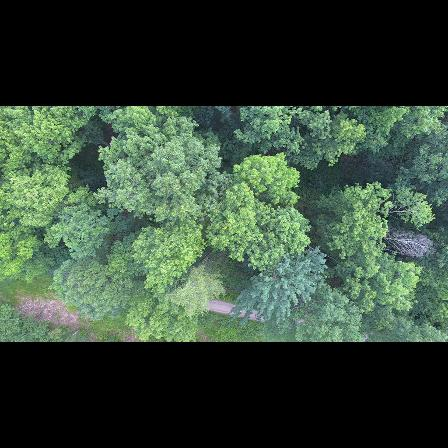Dead: (381, 226, 438, 260)
